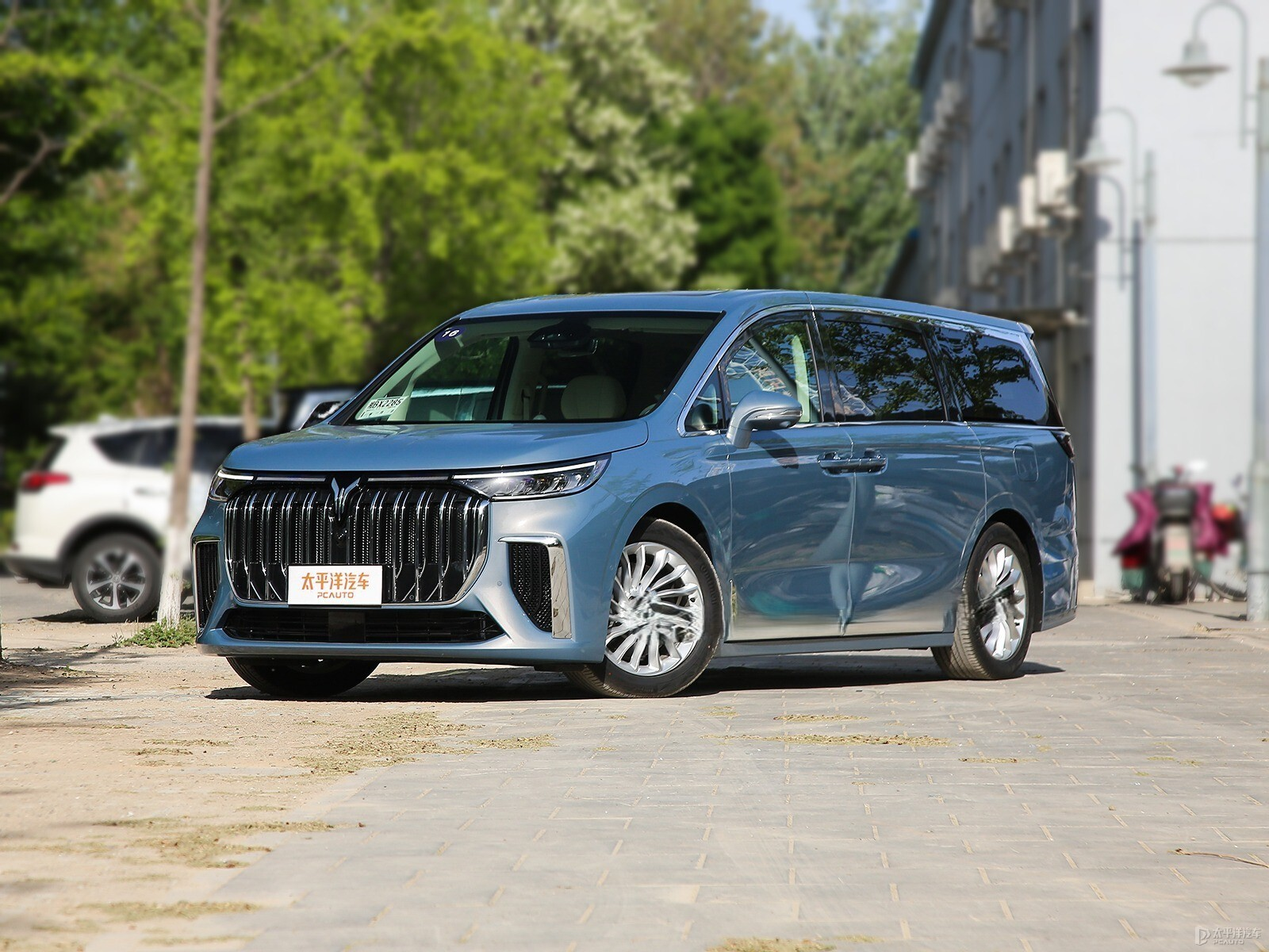VOYAH: (332, 478, 360, 520)
